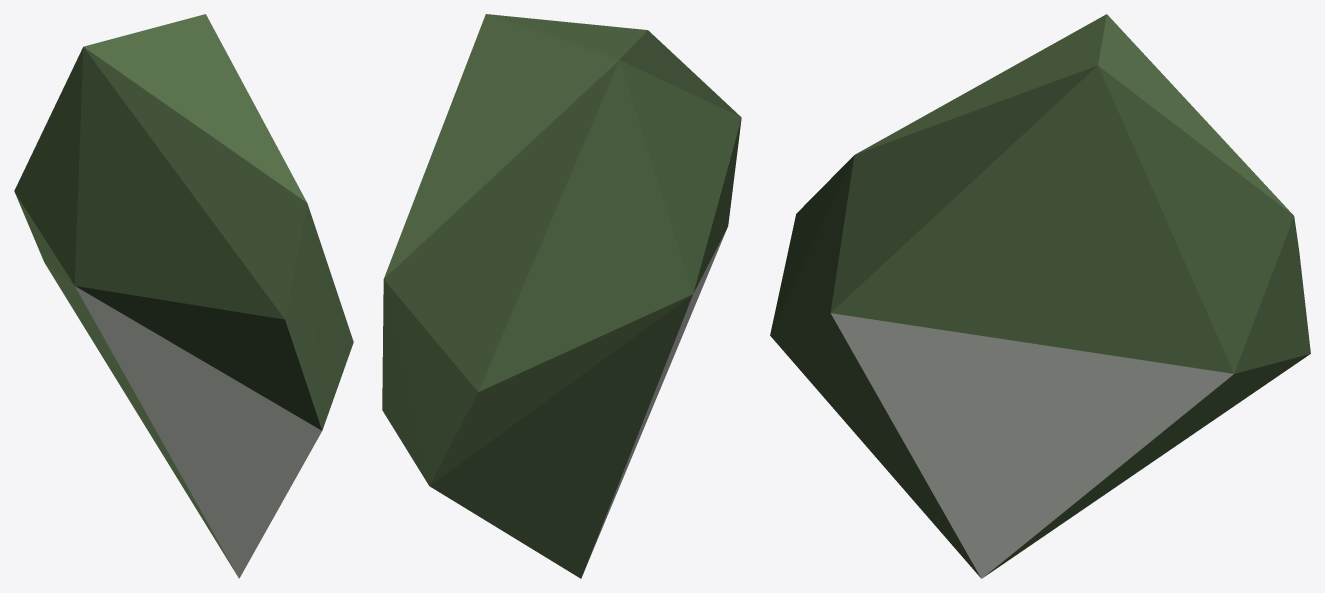
The model's file is BirchTree_4.lod4.glb.
3 renders of one model, left to right at view 1: azimuth 30°, elevation 25°; view 2: azimuth 150°, elevation 25°; view 3: azimuth 270°, elevation 25°, orthographic. The views are drawn at different scales.
Parts seen in each view (by area): view 1: BirchTree_4; view 2: BirchTree_4; view 3: BirchTree_4.
Boxes of the visible parts, left/top/right/bottom form: BirchTree_4: left=14, top=14, right=353, bottom=578; BirchTree_4: left=382, top=14, right=741, bottom=578; BirchTree_4: left=770, top=14, right=1310, bottom=578.
Size of the model in its own units: 1.27 by 3.58 by 3.34.
